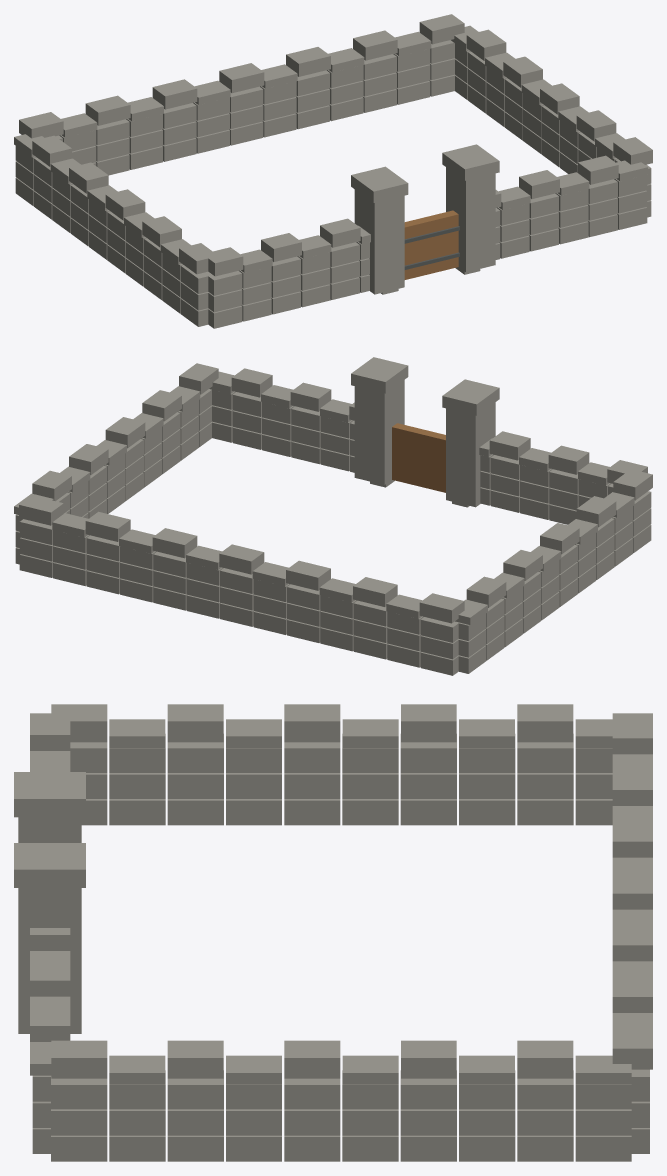
File: remparts_t2.glb
3 views of the same model, one above another, from view 1: azimuth 30°, elevation 25°; view 2: azimuth 150°, elevation 25°; view 3: azimuth 270°, elevation 25° (orthographic). The views are drawn at different scales.
Parts seen in each view (by area): view 1: rempart-arriere, rempart-gauche, rempart-droite, rempart-avant-gauche, rempart-avant-droite, Tour_porte.001, Tour_porte, rempart-porte, Couronnement.001, Couronnement; view 2: rempart-arriere, rempart-gauche, rempart-droite, rempart-avant-droite, rempart-avant-gauche, Tour_porte.001, Tour_porte, rempart-porte, Couronnement, Couronnement.001; view 3: rempart-droite, rempart-gauche, rempart-arriere, rempart-avant-droite, Tour_porte.001, Couronnement, Couronnement.001, rempart-avant-gauche, Tour_porte.
Part boxes in pixels (<box>): rempart-arriere: <box>19,14,464,175</box>; rempart-gauche: <box>14,134,213,326</box>; rempart-droite: <box>451,25,652,217</box>; rempart-avant-gauche: <box>203,218,370,328</box>; rempart-avant-droite: <box>495,155,647,259</box>; Tour_porte.001: <box>446,167,495,272</box>; Tour_porte: <box>354,189,404,294</box>; rempart-porte: <box>404,210,458,279</box>; Couronnement.001: <box>442,144,499,180</box>; Couronnement: <box>351,166,408,202</box>; rempart-arriere: <box>19,495,464,675</box>; rempart-gauche: <box>454,469,652,673</box>; rempart-droite: <box>14,363,218,564</box>; rempart-avant-droite: <box>209,368,354,472</box>; rempart-avant-gauche: <box>479,431,647,524</box>; Tour_porte.001: <box>354,380,404,484</box>; Tour_porte: <box>446,402,495,507</box>; rempart-porte: <box>392,423,445,492</box>; Couronnement: <box>442,379,499,415</box>; Couronnement.001: <box>351,357,408,393</box>; rempart-droite: <box>51,1040,631,1161</box>; rempart-gauche: <box>51,704,612,825</box>; rempart-arriere: <box>612,713,652,1153</box>; rempart-avant-droite: <box>30,928,70,1153</box>; Tour_porte.001: <box>18,888,81,1033</box>; Couronnement: <box>14,772,85,817</box>; Couronnement.001: <box>14,843,85,887</box>; rempart-avant-gauche: <box>30,713,70,771</box>; Tour_porte: <box>18,817,81,842</box>.
Bounding box in the file's own units: 2.9 × 0.67 × 2.21.
